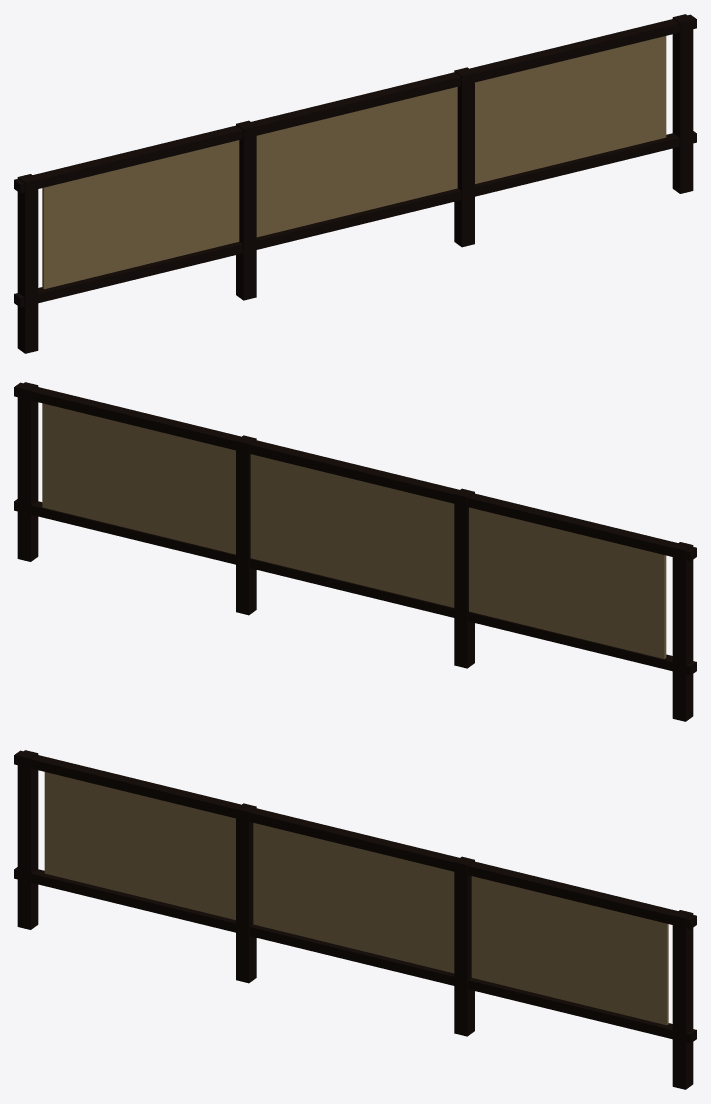
The model's file is tenter.fbx.
3 renders of one model, top to bottom at view 1: azimuth 30°, elevation 25°; view 2: azimuth 150°, elevation 25°; view 3: azimuth 330°, elevation 25°, orthographic.
Visible parts, largest first — view 1: tenter; view 2: tenter; view 3: tenter.
Part boxes in pixels (<box>): tenter: <box>14,14,696,353</box>; tenter: <box>14,382,696,721</box>; tenter: <box>14,750,696,1089</box>.
Size of the model in its own units: 6.2 by 1.5 by 0.12.
